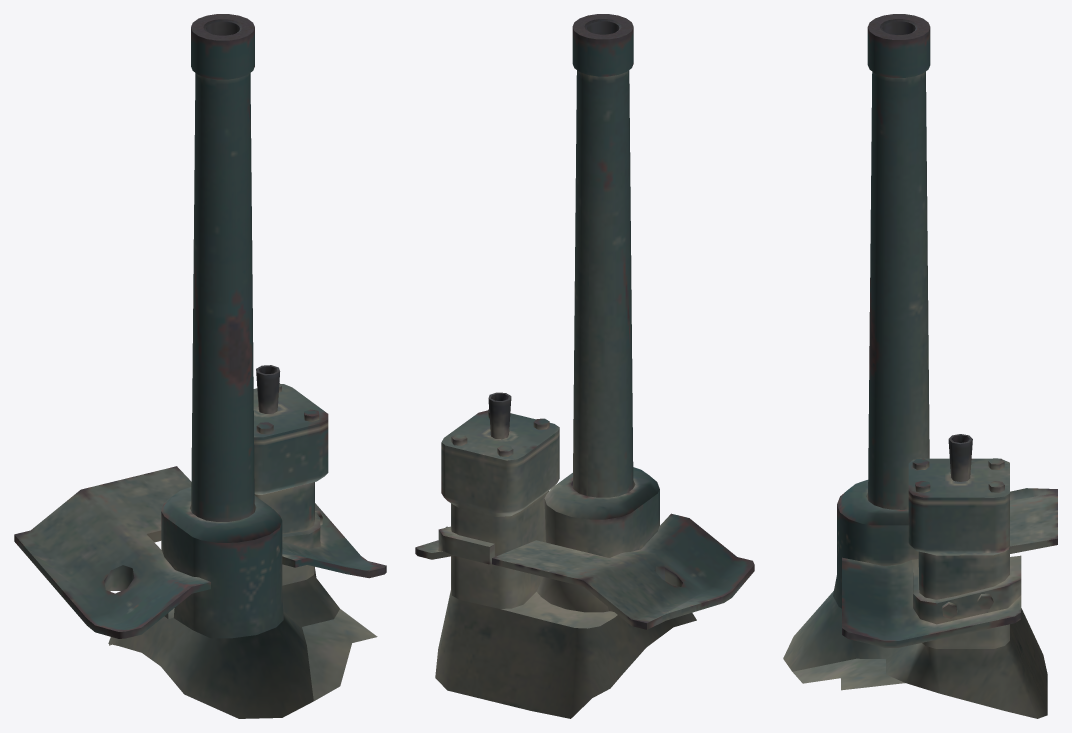
The model's file is Gun_04.glb.
The picture shows the model from 3 angles, left to right: view 1: azimuth 30°, elevation 25°; view 2: azimuth 150°, elevation 25°; view 3: azimuth 270°, elevation 25°; orthographic projection. The views are drawn at different scales.
Visible parts, largest first — view 1: set_0_group_0; view 2: set_0_group_0; view 3: set_0_group_0.
Boxes of the visible parts, bbox=[...] form: set_0_group_0: bbox=[14, 14, 386, 718]; set_0_group_0: bbox=[415, 14, 754, 718]; set_0_group_0: bbox=[783, 14, 1057, 718].
Size of the model in its own units: 0.4239 by 0.9969 by 0.3838.
Materials: 1 (1 with a texture image).
